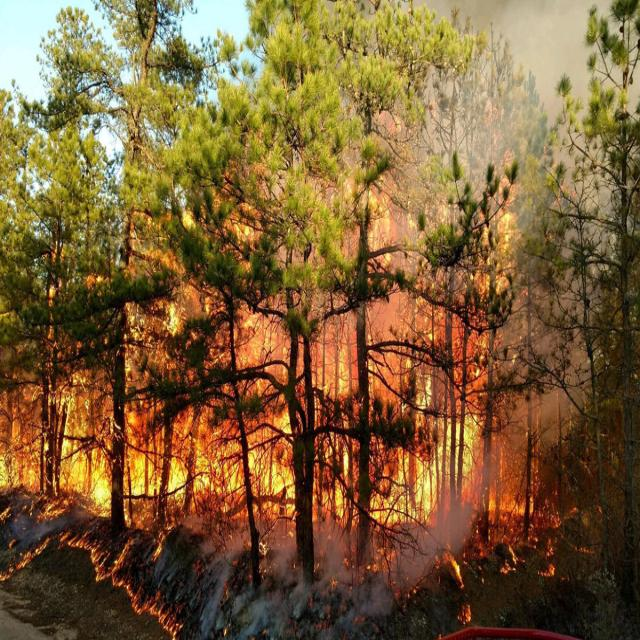Fire: (9, 194, 608, 576)
